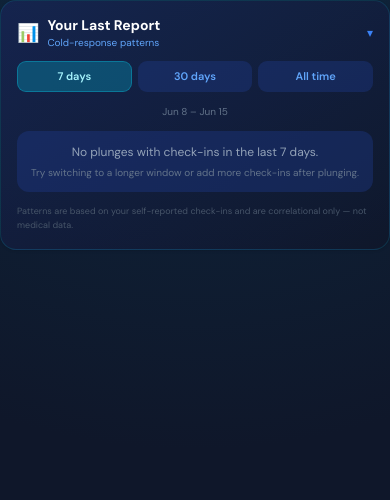
DiscoveryReportCard — All-time tab with plunges spanning multiple years › All-time tab shows the full sweet-spot card for sessions spread across years
Click the button "All time": [316, 76] box [258,61,373,92]
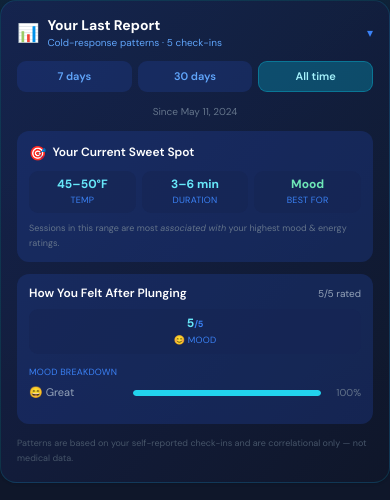
Check: the text "Your Current Sweet Spot" is shown, box [52,145,194,160]
